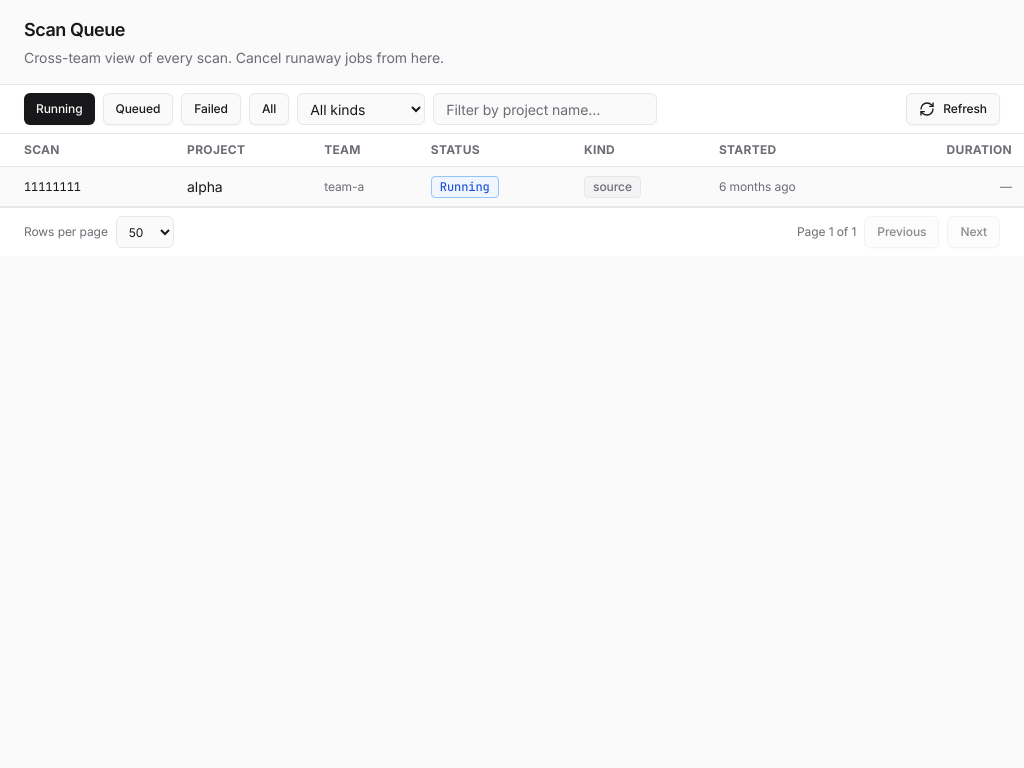
it: AdminScansPage › opens the drawer when a row is clicked
The image size is (1024, 768).
What coordinates should you click on to do the following:
click the row with test id "admin-scans-row"
I would click on:
 (512, 186)
Its box is [0, 166, 1023, 206].
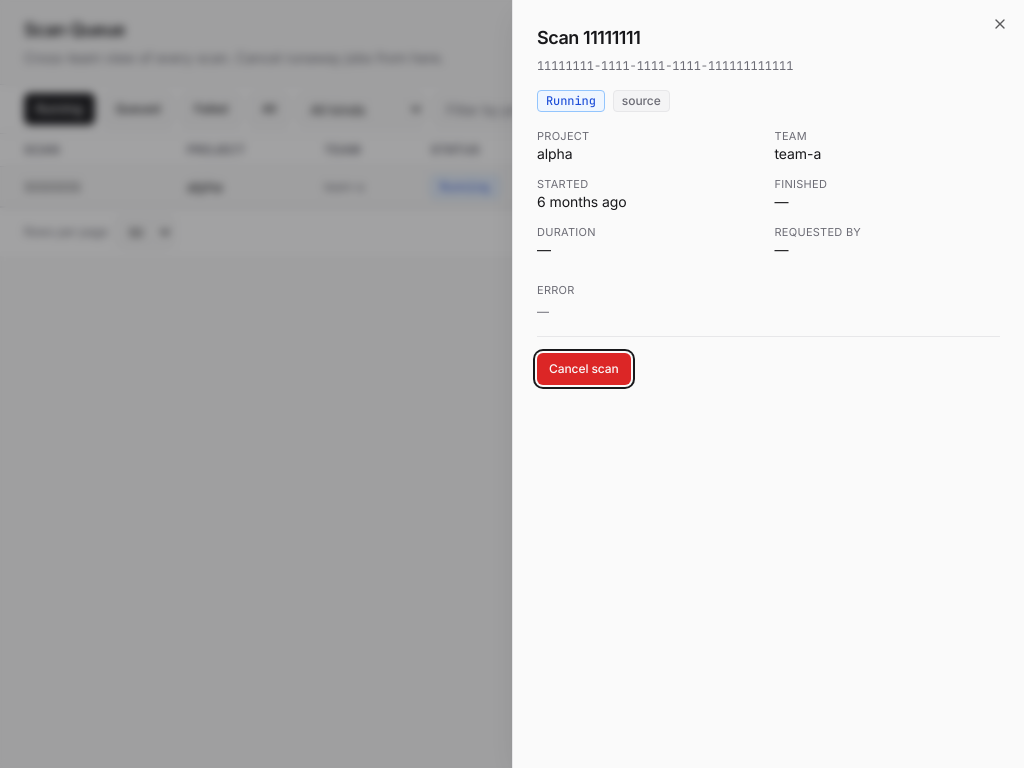
Check: the dialog with test id "admin-scan-drawer" is shown, box [512, 0, 1023, 767]
Check: the text with test id "admin-scan-project" reads "alpha", box [537, 145, 573, 162]
Check: the text with test id "admin-scan-team" reads "team-a", box [774, 145, 821, 162]
